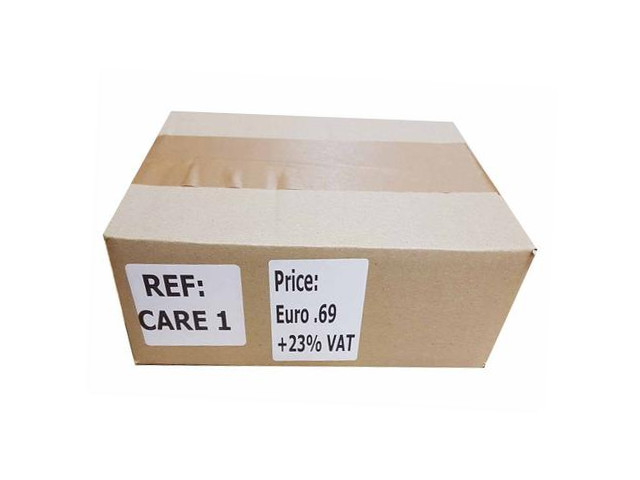cardboard: (100, 111, 532, 367)
